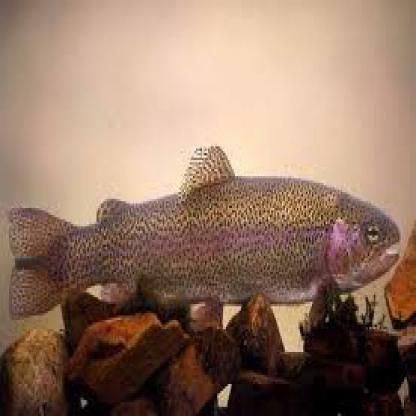fish: (8, 145, 400, 330)
